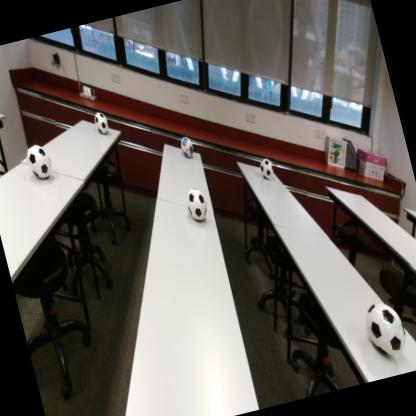ball: (362, 299, 410, 361), (26, 142, 56, 181), (185, 186, 210, 224), (258, 156, 276, 182), (93, 110, 110, 136), (180, 135, 196, 160)
